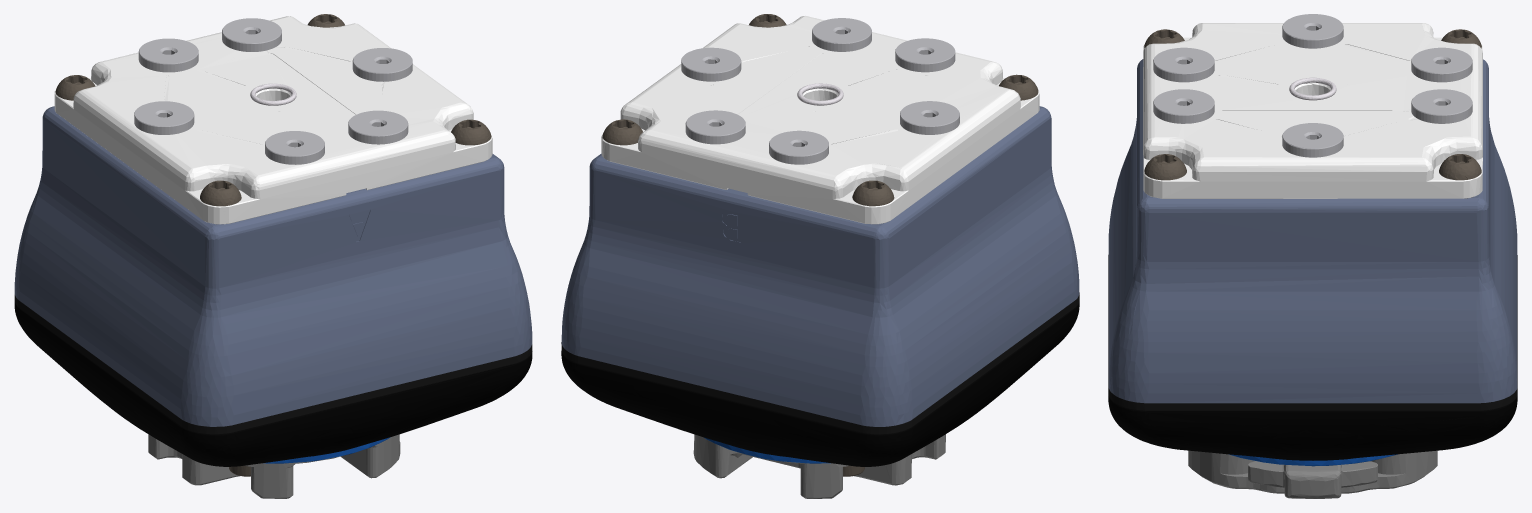
Rendered from onrobot-vgc10.glb.
3 views of the same model, side by side, from view 1: azimuth 30°, elevation 25°; view 2: azimuth 150°, elevation 25°; view 3: azimuth 270°, elevation 25° (orthographic). The views are drawn at different scales.
Visible parts, largest first — view 1: onrobot-vgc10; view 2: onrobot-vgc10; view 3: onrobot-vgc10.
Part boxes in pixels (x1,y1,x2,y2): onrobot-vgc10: (14, 14, 532, 498); onrobot-vgc10: (561, 14, 1079, 498); onrobot-vgc10: (1108, 14, 1517, 498).
Bounding box in the file's own units: 100 × 98.5 × 100.
